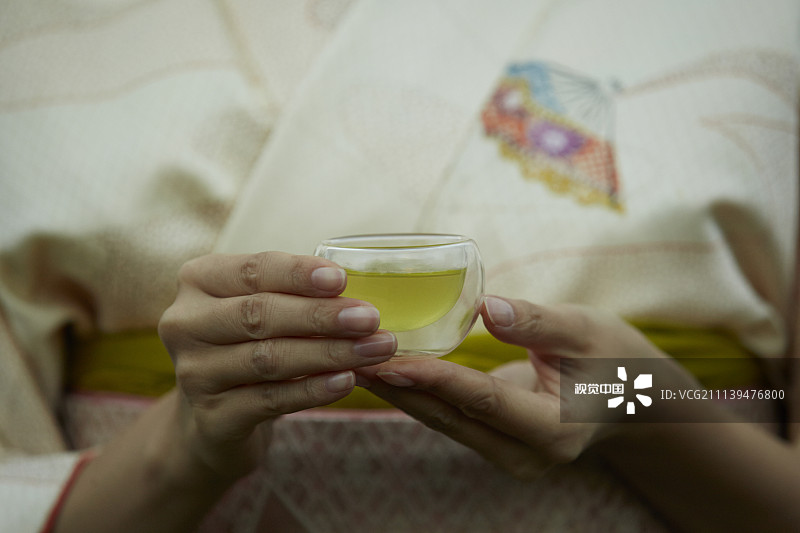no-phone: (359, 280, 737, 489), (146, 235, 403, 492)
